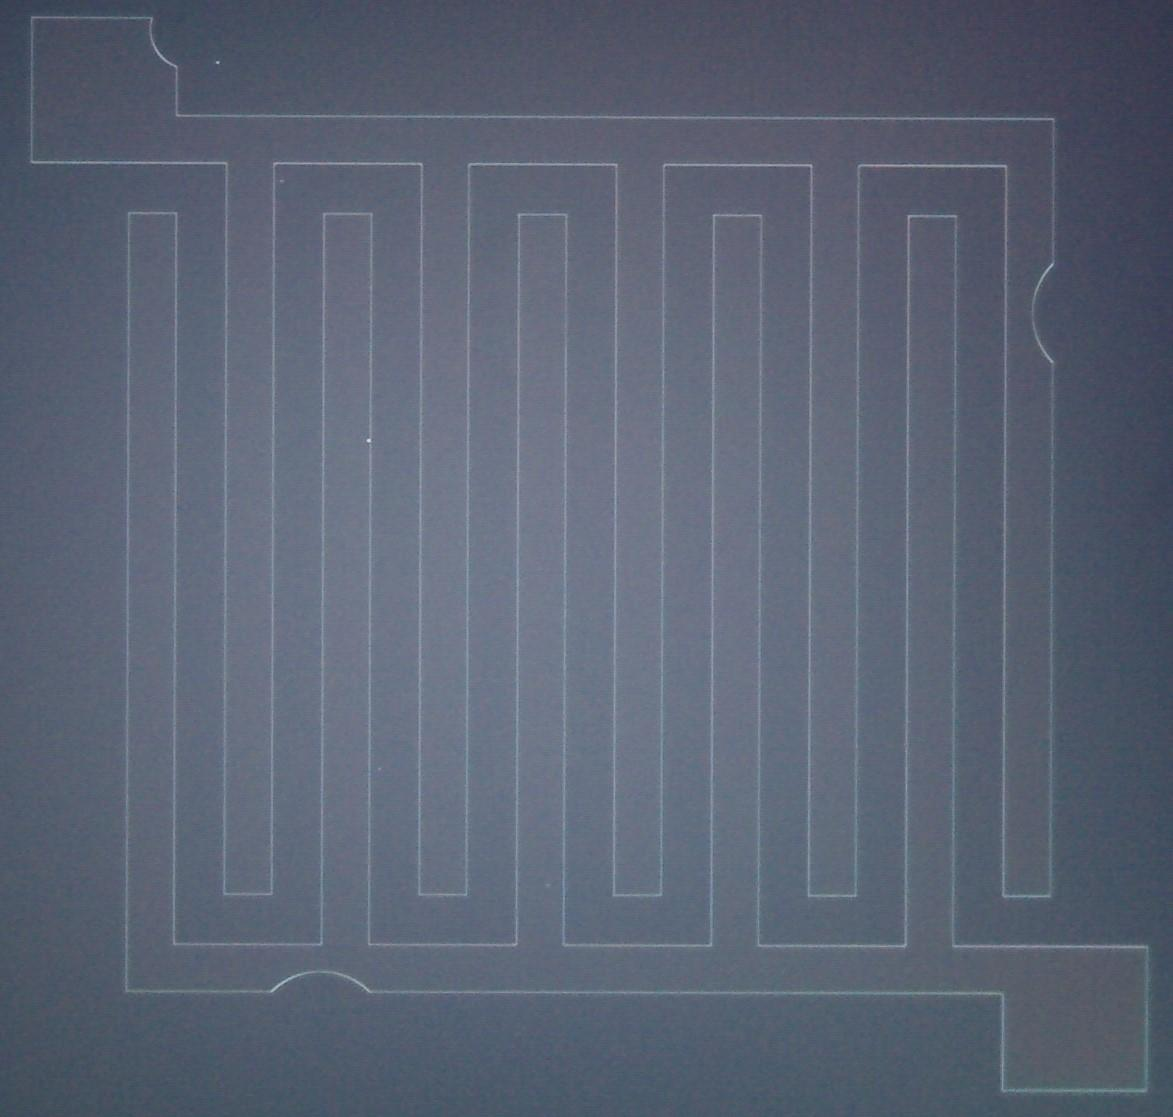cut: (256, 960, 395, 1025), (1027, 247, 1090, 380), (129, 6, 191, 84)
s_point: (207, 51, 228, 73), (359, 430, 378, 452), (273, 172, 291, 191)
